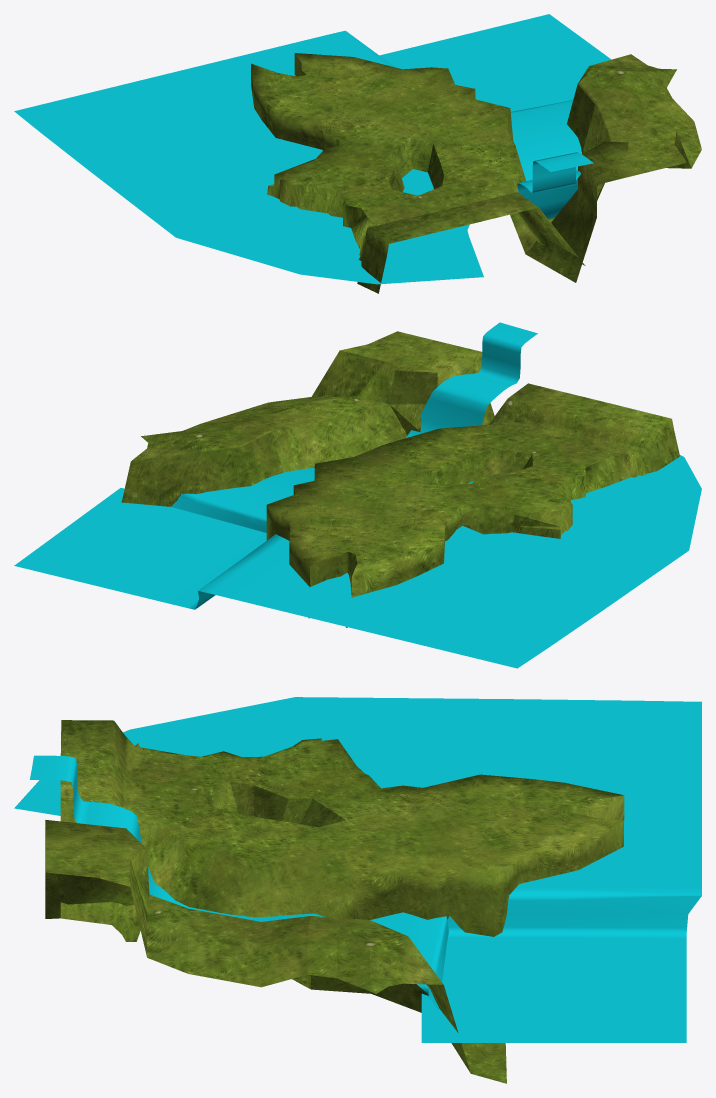
The model's file is ground.FBX.
The picture shows the model from 3 angles, top to bottom: view 1: azimuth 30°, elevation 25°; view 2: azimuth 150°, elevation 25°; view 3: azimuth 270°, elevation 25°; orthographic projection. The views are drawn at different scales.
Visible parts, largest first — view 1: water1, ground, water2; view 2: ground, water1, water2; view 3: ground, water1, water2.
Part boxes in pixels (x1,y1,x2,y2): water1: (14, 14, 610, 284); ground: (251, 53, 701, 293); water2: (510, 100, 593, 219); ground: (121, 331, 679, 627); water1: (14, 455, 701, 668); water2: (171, 322, 537, 532); ground: (45, 720, 624, 1083); water1: (14, 697, 701, 1042); water2: (30, 755, 448, 1010).
Bounding box in the file's own units: 6569 × 1625 × 6048.
